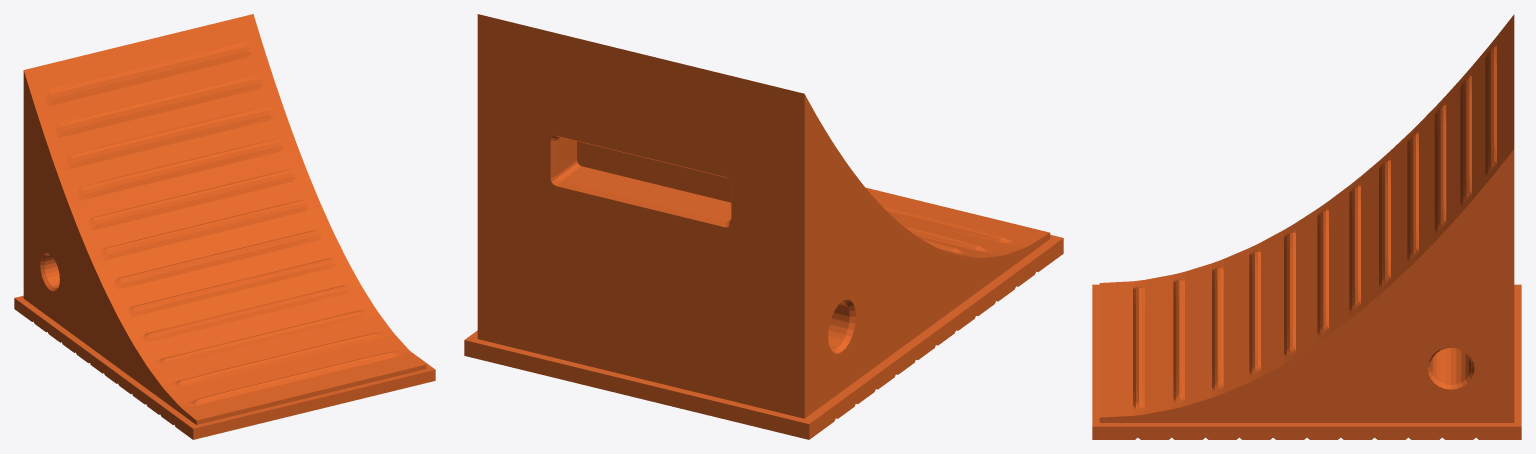
3 views of the same model, side by side, from view 1: azimuth 30°, elevation 25°; view 2: azimuth 150°, elevation 25°; view 3: azimuth 270°, elevation 25° (orthographic). The views are drawn at different scales.
Visible parts, largest first — view 1: Complete_single_wheel_chock; view 2: Complete_single_wheel_chock; view 3: Complete_single_wheel_chock.
Boxes of the visible parts, x1=… form: Complete_single_wheel_chock: x1=14, y1=14, x2=435, y2=439; Complete_single_wheel_chock: x1=464, y1=14, x2=1063, y2=439; Complete_single_wheel_chock: x1=1092, y1=14, x2=1521, y2=439.
Size of the model in its own units: 0.2286 by 0.2159 by 0.2921.
